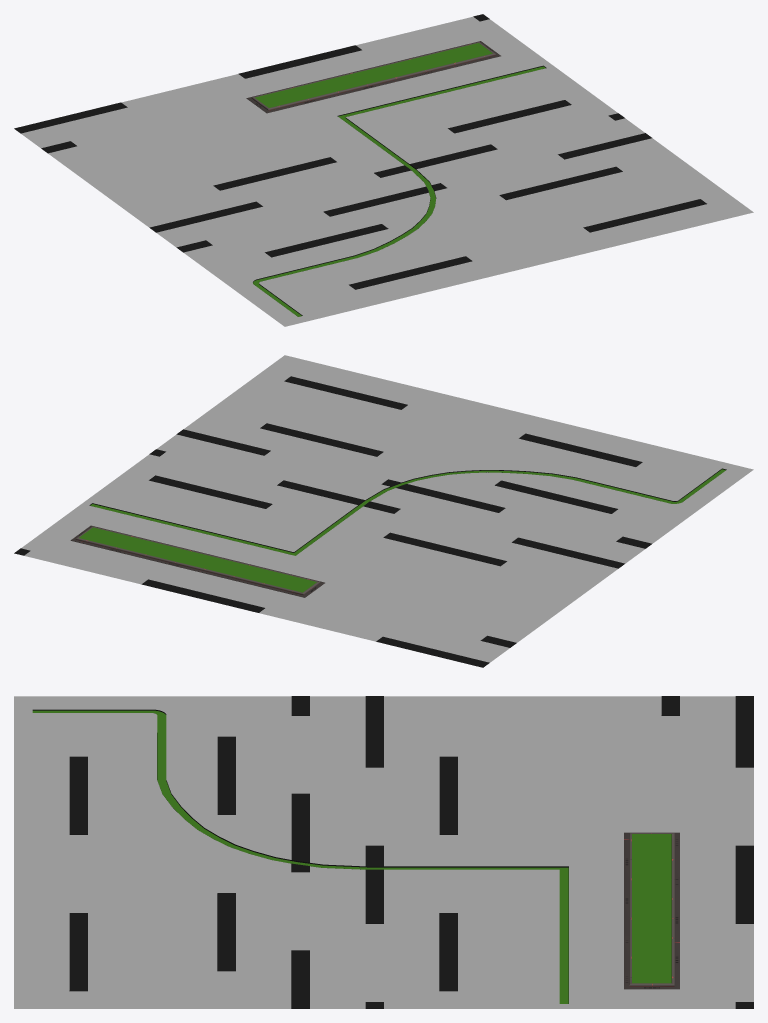
The model's file is W_M_32x32_R0_Park_Floor_a_L0.fbx.
3 views of the same model, one above another, from view 1: azimuth 30°, elevation 25°; view 2: azimuth 150°, elevation 25°; view 3: azimuth 270°, elevation 25° (orthographic). The views are drawn at different scales.
Visible parts, largest first — view 1: W_M_32x32_R0_Park_Floor_a_L0; view 2: W_M_32x32_R0_Park_Floor_a_L0; view 3: W_M_32x32_R0_Park_Floor_a_L0.
Boxes of the visible parts, bbox=[...] form: W_M_32x32_R0_Park_Floor_a_L0: bbox=[14, 14, 753, 326]; W_M_32x32_R0_Park_Floor_a_L0: bbox=[14, 355, 753, 667]; W_M_32x32_R0_Park_Floor_a_L0: bbox=[14, 696, 753, 1008].
Size of the model in its own units: 32 by 32 by 0.1682.
